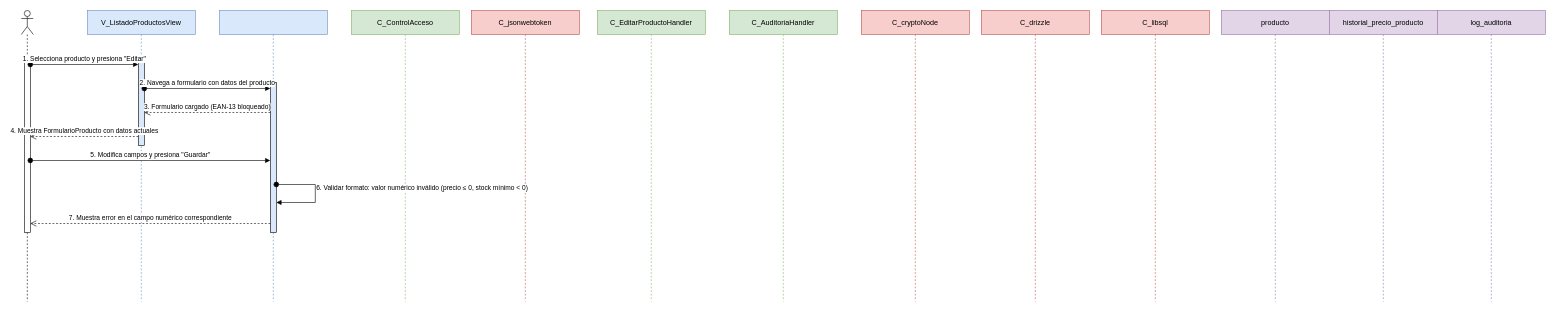
Some shapes in this 1556 by 312 pixel diagram are drawn without their labels. Each missing label, with the box of its shape:
Dueño: (21, 10, 33, 302)
V_FormularioProductoView: (219, 10, 327, 302)
